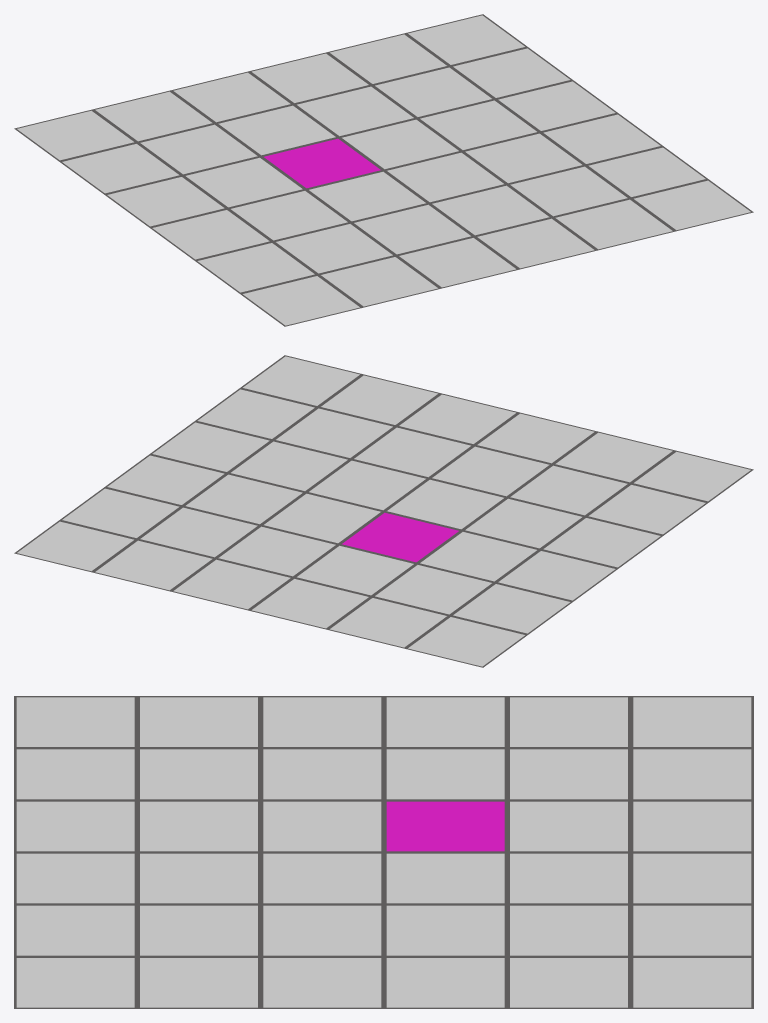
3 renders of one model, top to bottom at view 1: azimuth 30°, elevation 25°; view 2: azimuth 150°, elevation 25°; view 3: azimuth 270°, elevation 25°, orthographic. The views are drawn at different scales.
Visible parts, largest first — view 1: Plane.001; view 2: Plane.001; view 3: Plane.001.
Boxes of the visible parts, x1,y1,x2,y2 form: Plane.001: (14,14,753,326); Plane.001: (14,355,753,667); Plane.001: (14,696,753,1008).
Size of the model in its own units: 921 by 4.02e-05 by 921.
